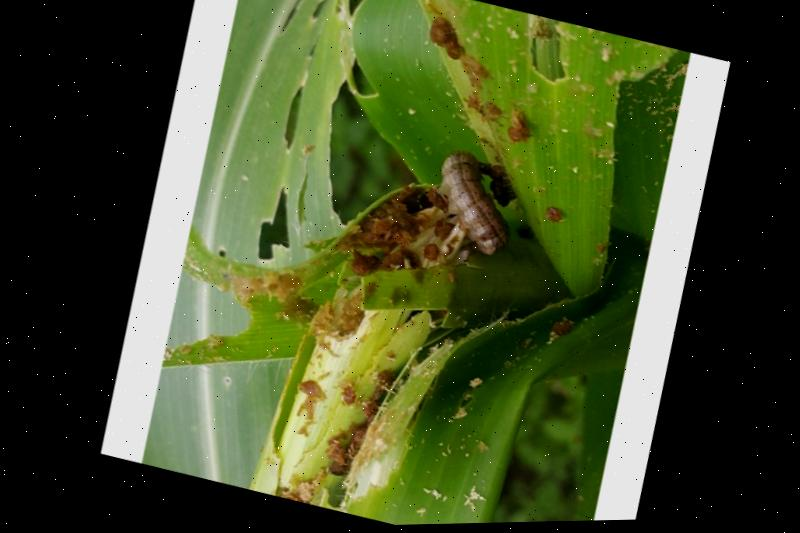fall-armyworm: (439, 151, 510, 260)
